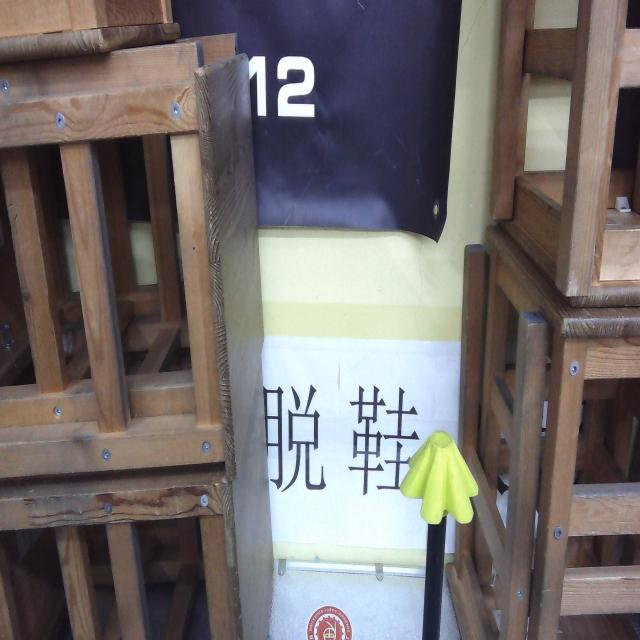Yellow-Stake-Head: (399, 430, 478, 525)
